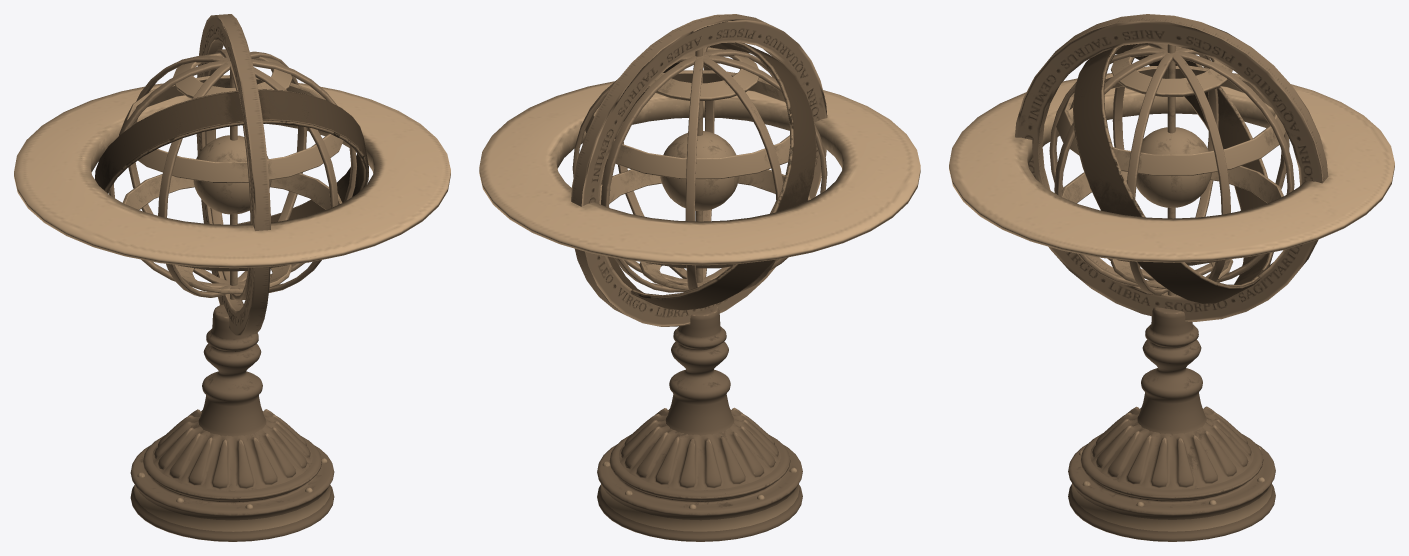
3 renders of one model, left to right at view 1: azimuth 30°, elevation 25°; view 2: azimuth 150°, elevation 25°; view 3: azimuth 270°, elevation 25°, orthographic. The views are drawn at different scales.
Parts seen in each view (by area): view 1: export1; view 2: export1; view 3: export1.
Part boxes in pixels (x1,y1,x2,y2): export1: (14,14,450,541); export1: (479,14,920,541); export1: (949,14,1394,541).
Size of the model in its own units: 24.65 by 29.3 by 24.64.
1 material, 1 textured.
